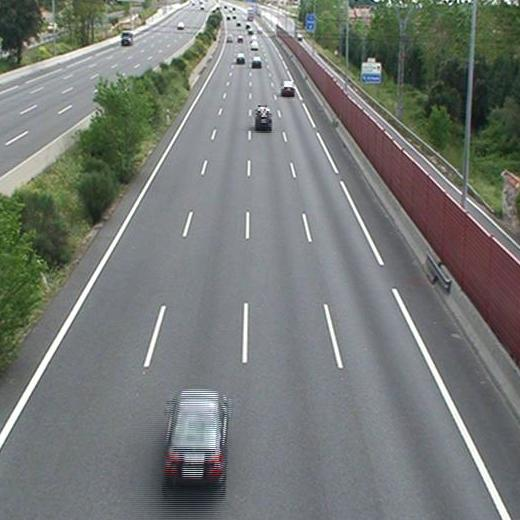car: (166, 392, 224, 477), (255, 108, 272, 127), (282, 80, 295, 94), (252, 56, 263, 66), (250, 41, 259, 51), (236, 54, 246, 63)
